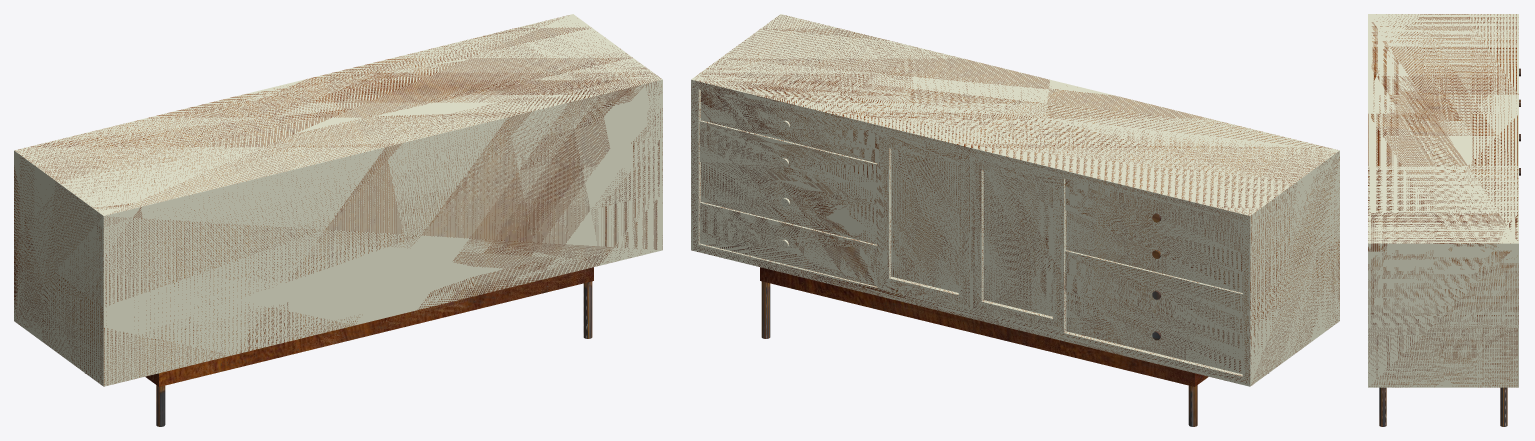
3 renders of one model, left to right at view 1: azimuth 30°, elevation 25°; view 2: azimuth 150°, elevation 25°; view 3: azimuth 270°, elevation 25°, orthographic. The views are drawn at different scales.
Parts seen in each view (by area): view 1: mesh1_mesh1-geometry; view 2: mesh1_mesh1-geometry; view 3: mesh1_mesh1-geometry, mesh2_mesh2-geometry, mesh3_mesh3-geometry.
Part boxes in pixels (x1=…): mesh1_mesh1-geometry: x1=14, y1=14, x2=662, y2=386; mesh1_mesh1-geometry: x1=691, y1=14, x2=1339, y2=386; mesh1_mesh1-geometry: x1=1368, y1=14, x2=1518, y2=387; mesh2_mesh2-geometry: x1=1500, y1=387, x2=1507, y2=426; mesh3_mesh3-geometry: x1=1379, y1=387, x2=1386, y2=426.
Size of the model in its own units: 0.8914 by 0.3776 by 0.2507.
